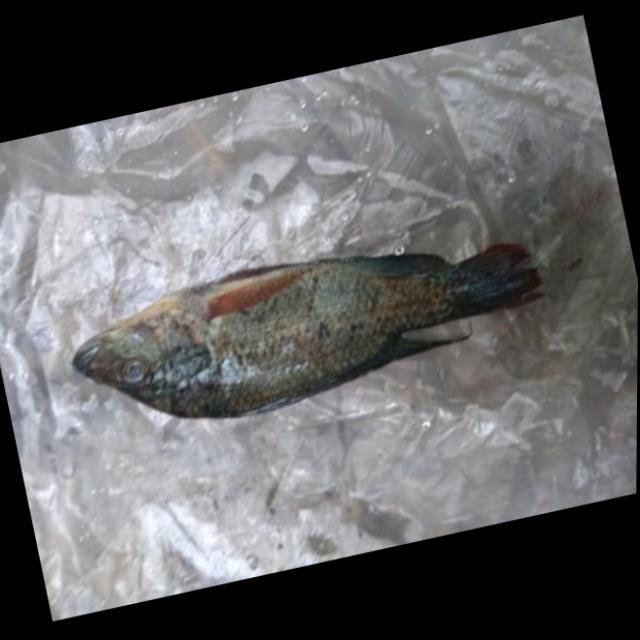Tilapia: (61, 207, 559, 457)
